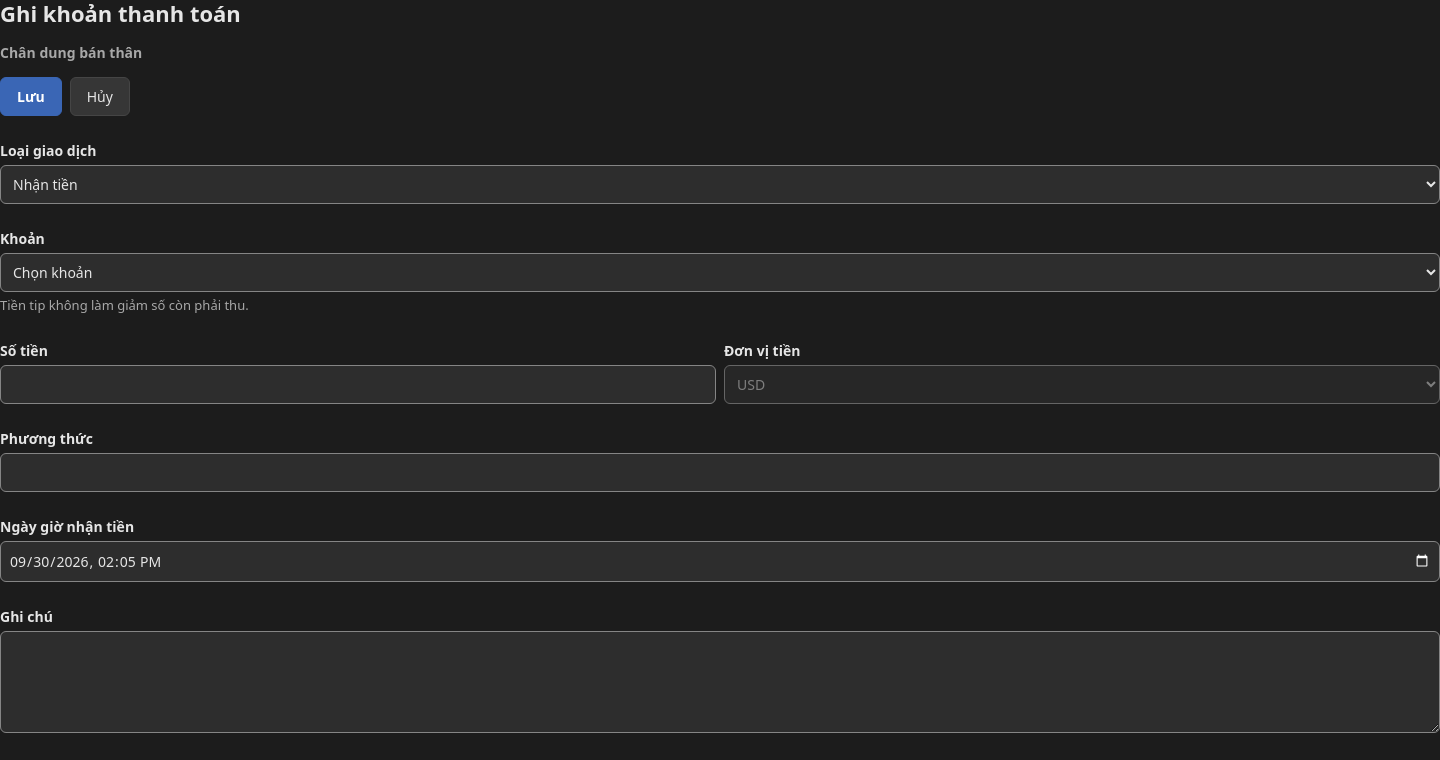
Test: page payment_form: saving › the text cursor goes to the first field in error: {"amount.amount_minor":"Số tiền không hợp lệ."} → Số tiền
The width and height of the screenshot is (1440, 760).
Expected: the field labelled "Số tiền" is shown, 0,364 -> 716,404
Click the button "Lưu" at (31, 96), box 0,77 -> 62,116
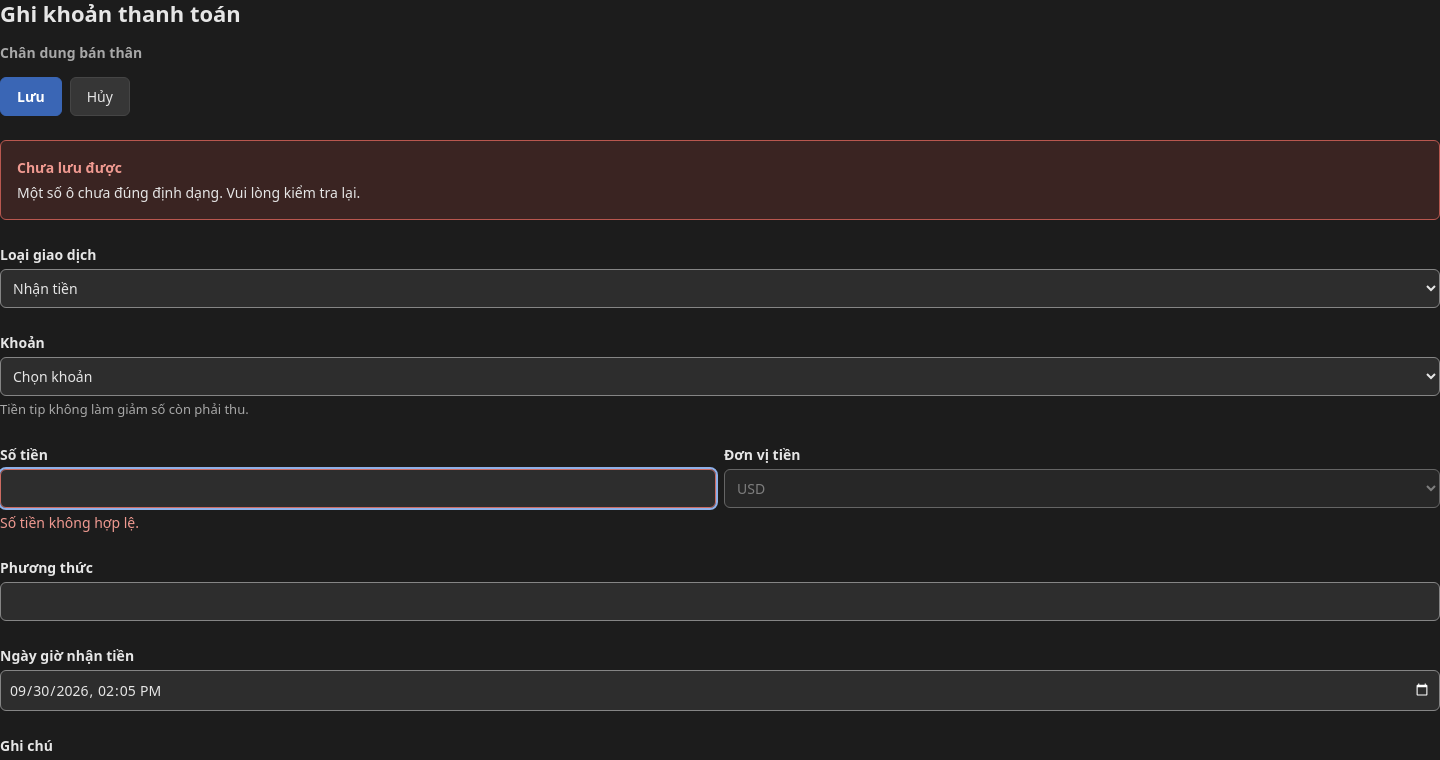
Result: the message "Chưa lưu được Một số ô chưa đúng định dạng. Vui lòng kiểm tra lại." is shown at 0,140 -> 1439,220
